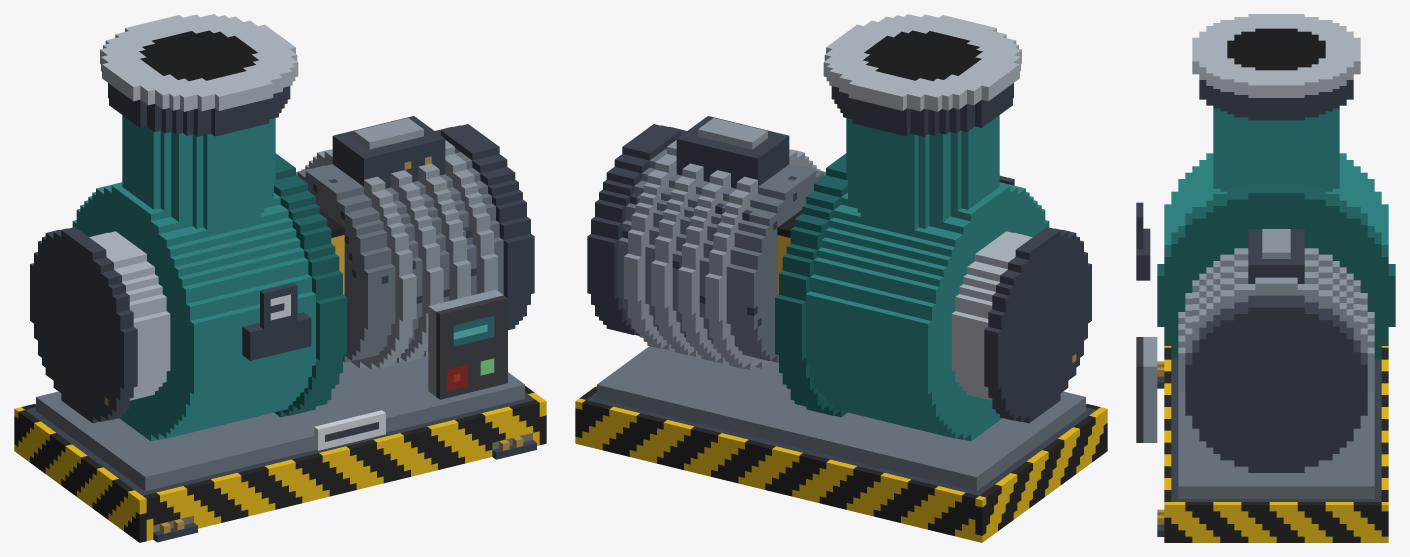
File: pump.obj
The picture shows the model from 3 angles, left to right: view 1: azimuth 30°, elevation 25°; view 2: azimuth 150°, elevation 25°; view 3: azimuth 270°, elevation 25°; orthographic projection. The views are drawn at different scales.
Visible parts, largest first — view 1: pump; view 2: pump; view 3: pump.
Boxes of the visible parts, left/top/right/bottom form: pump: left=14, top=14, right=546, bottom=542; pump: left=575, top=14, right=1107, bottom=542; pump: left=1136, top=14, right=1395, bottom=542.
Size of the model in its own units: 1.88 by 1.81 by 1.16.
